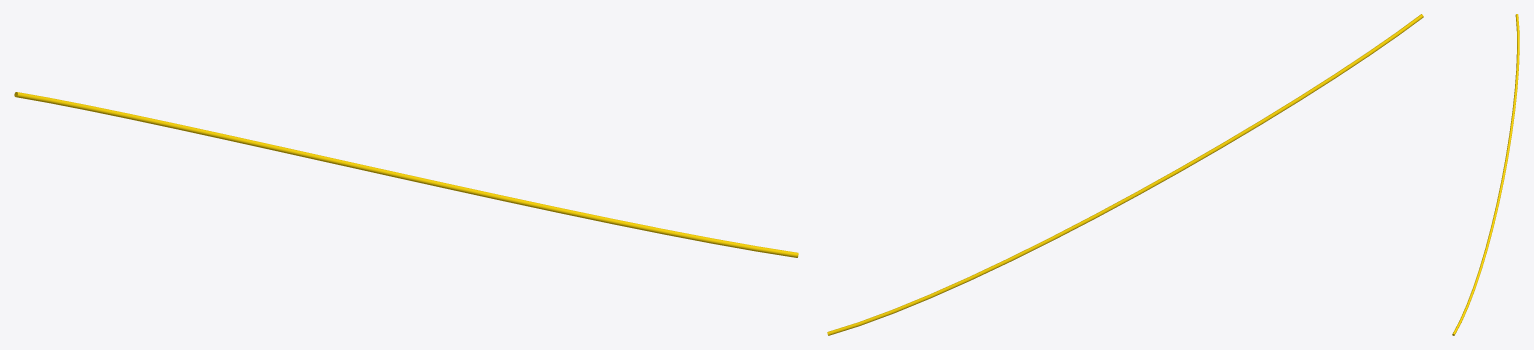
Rendered from Event_421556567_track_13.fbx.
The picture shows the model from 3 angles, left to right: view 1: azimuth 30°, elevation 25°; view 2: azimuth 210°, elevation 25°; view 3: azimuth 270°, elevation 25°; orthographic projection. The views are drawn at different scales.
Parts seen in each view (by area): view 1: Model; view 2: Model; view 3: Model.
Boxes of the visible parts, x1,y1,x2,y2 form: Model: (14,92,798,257); Model: (827,14,1423,335); Model: (1452,14,1519,335).
Bounding box in the file's own units: 6.14 × 2.4 × 0.9972.
